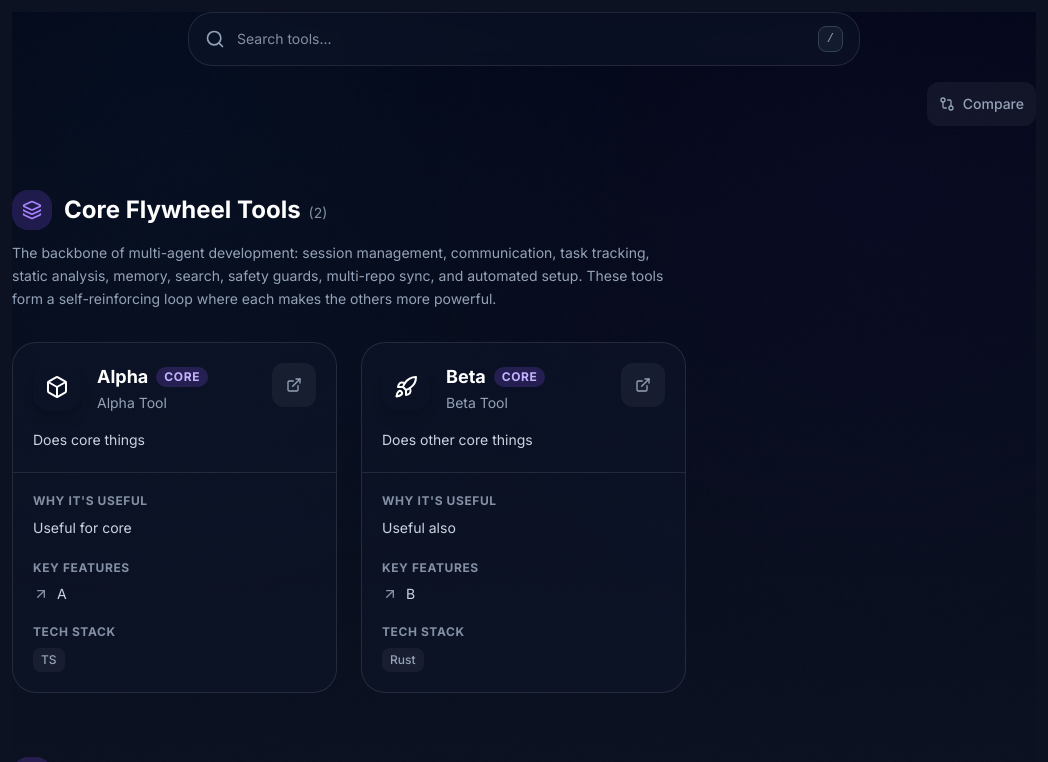
Test: TldrToolGrid › search filtering › filters tools based on search query
The width and height of the screenshot is (1048, 762).
Type "Alpha" into the field with placeholder "Search tools..." at coordinates (524, 39), box 189,13 -> 859,65
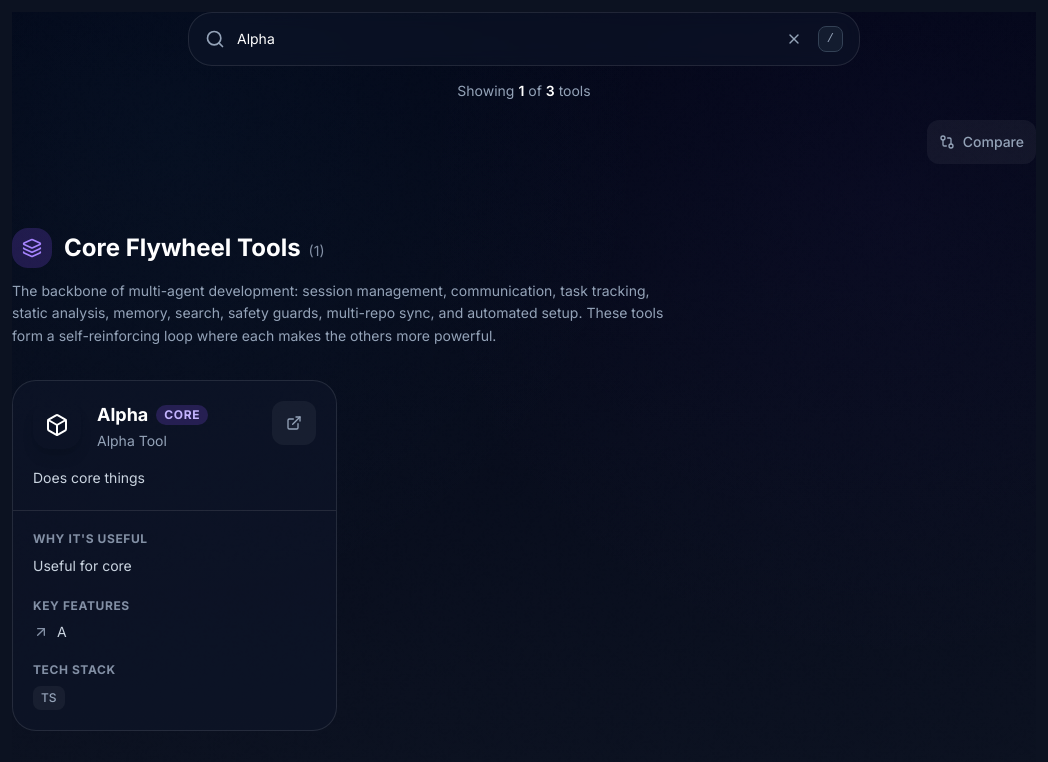
Expected: the text "Alpha Tool" is shown, 97,432 -> 167,449
Expected: the text "Beta Tool" is gone
Expected: the message reads "Showing 1 of 3 tools", 457,82 -> 591,99
